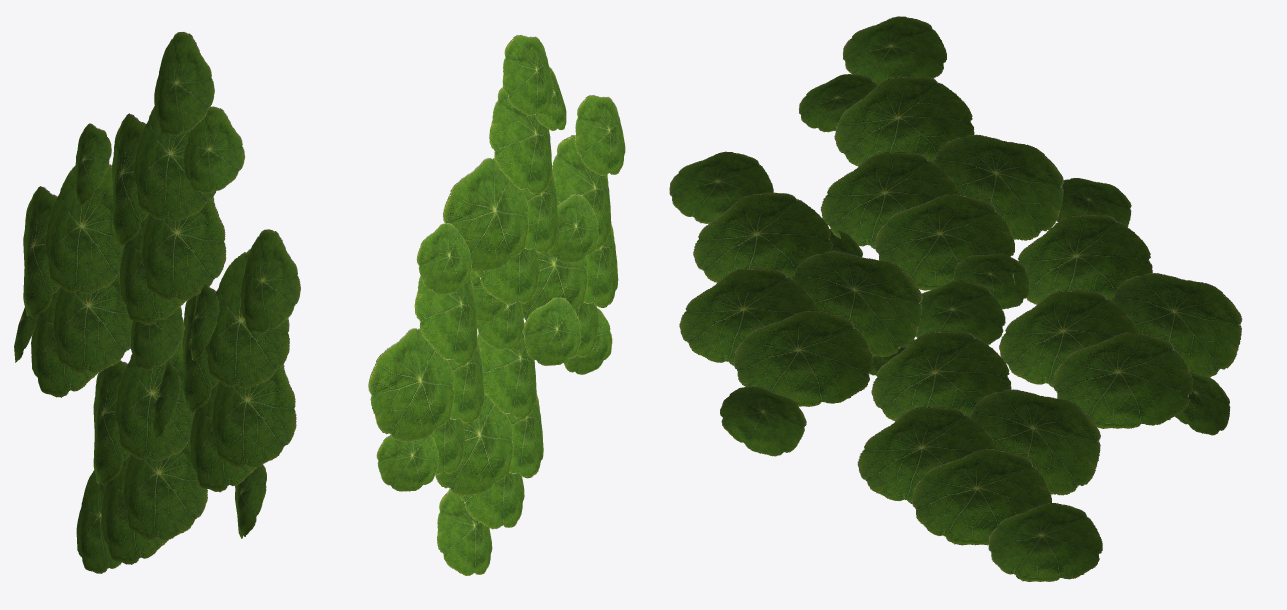
File: vinewall.fbx
The picture shows the model from 3 angles, left to right: view 1: azimuth 30°, elevation 25°; view 2: azimuth 150°, elevation 25°; view 3: azimuth 270°, elevation 25°; orthographic projection. The views are drawn at different scales.
Visible parts, largest first — view 1: Plane.009; view 2: Plane.009; view 3: Plane.009.
Part boxes in pixels (bbox=[...]): Plane.009: bbox=[14, 32, 300, 573]; Plane.009: bbox=[368, 35, 625, 575]; Plane.009: bbox=[669, 16, 1242, 581].
Size of the model in its own units: 22.21 by 180 by 169.
